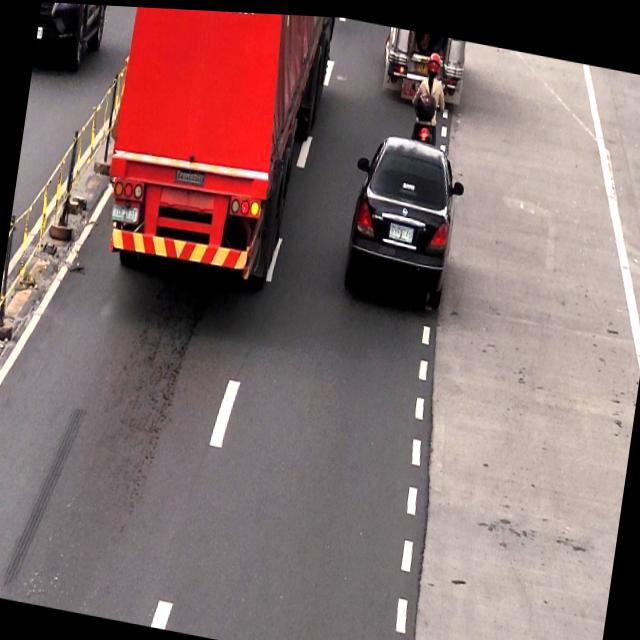Car: (344, 126, 462, 309)
Jeep: (381, 23, 467, 101)
License-Plate: (109, 201, 139, 224), (390, 220, 416, 239)
Motorcycle: (412, 48, 448, 137)
Truck: (95, 4, 331, 287)
